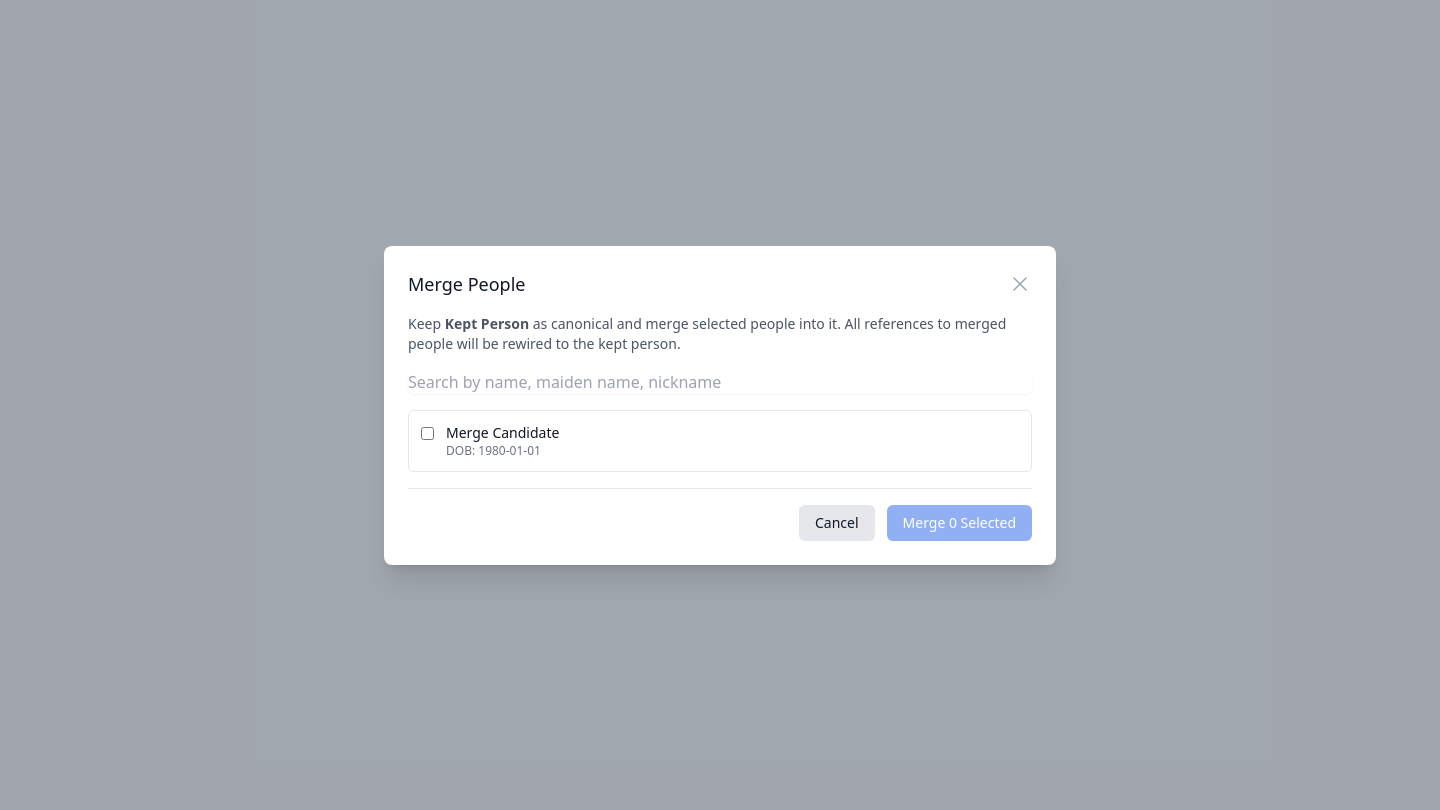
it: MergePeopleModal › requires confirmation checkbox before enabling merge action
Expected: the text "Merge Candidate" is shown, [446,422,559,442]
Click the checkbox: (428, 433) [421,426,434,440]
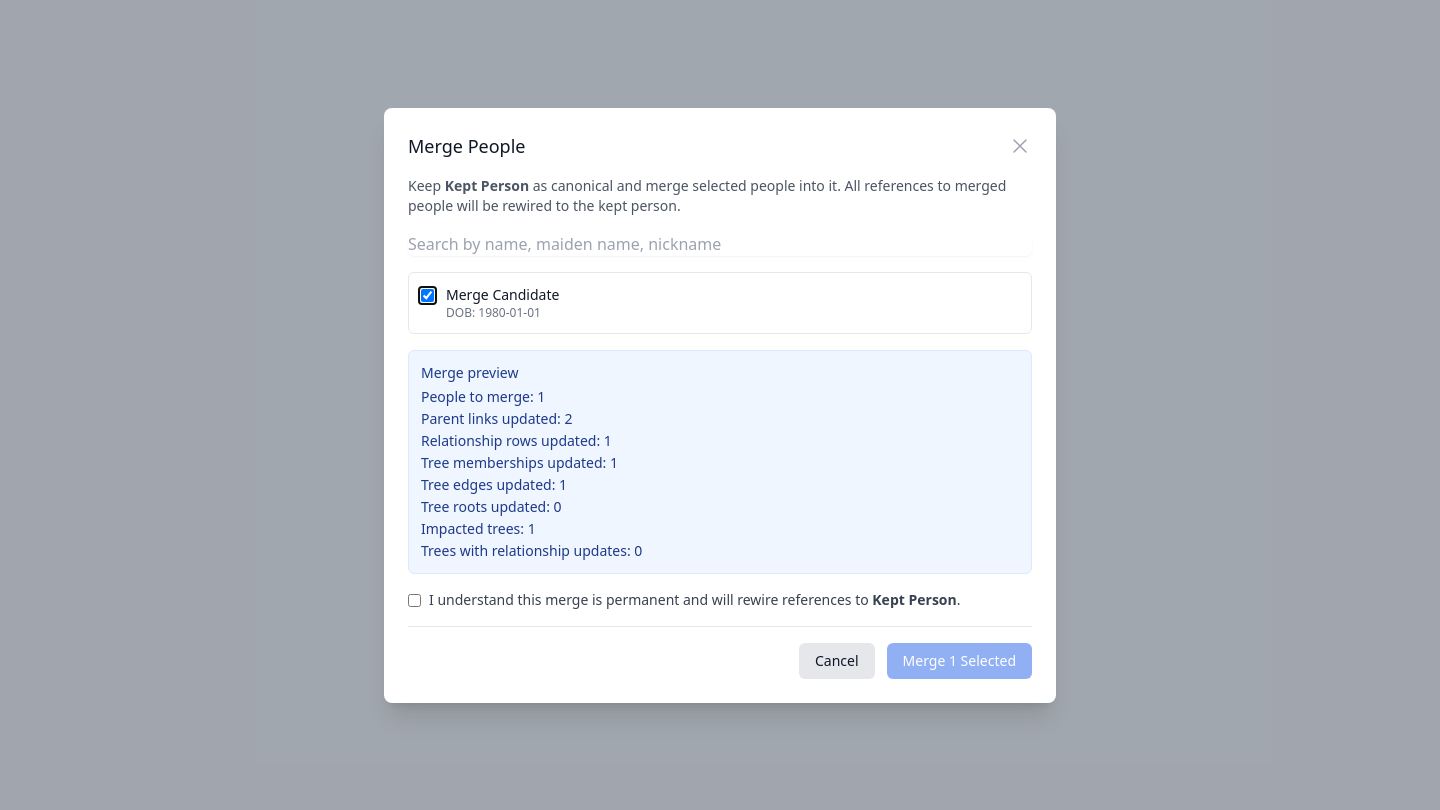
Expected: the button "Merge 1 Selected" is disabled, [887,642,1032,678]
Expected: the text "Merge preview" is shown, [421,362,518,382]
Click the 2nd checkbox: (414, 600) [408,594,421,606]
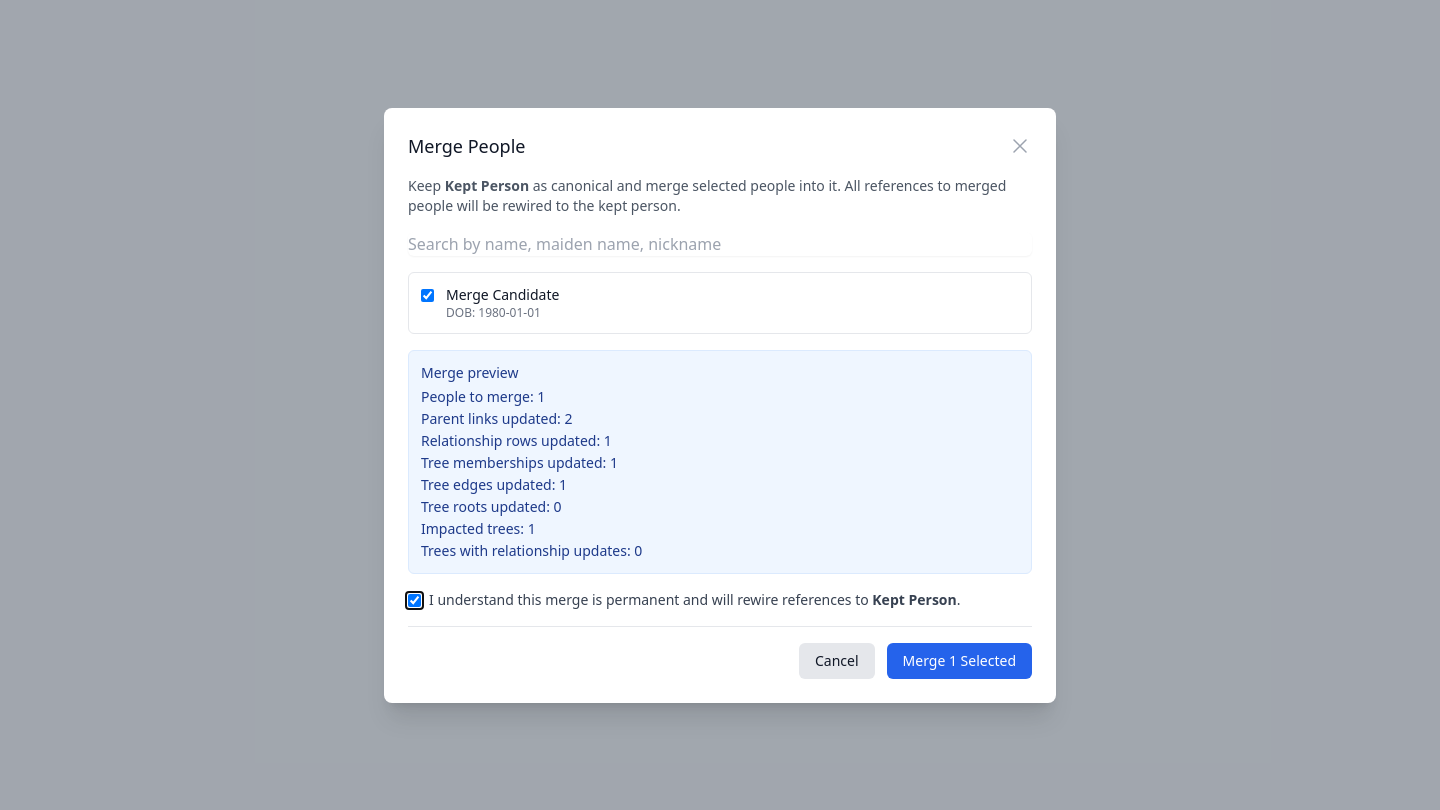
Expected: the button "Merge 1 Selected" is enabled, [887,642,1032,678]
